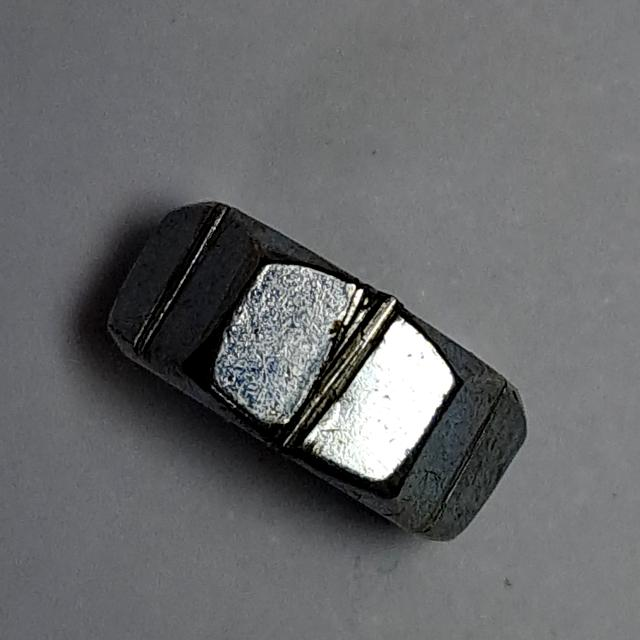Side_Scratches: (94, 192, 549, 557)
